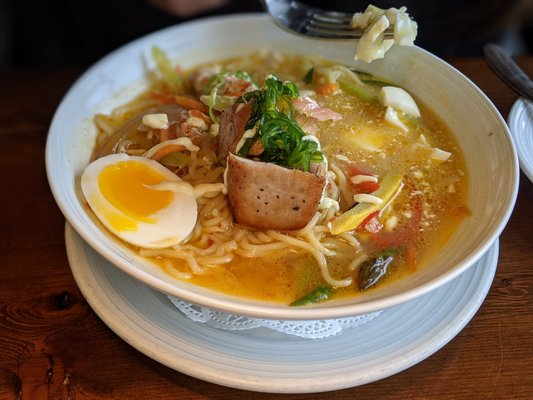curry: (241, 75, 324, 173)
sushi: (17, 4, 520, 361)
